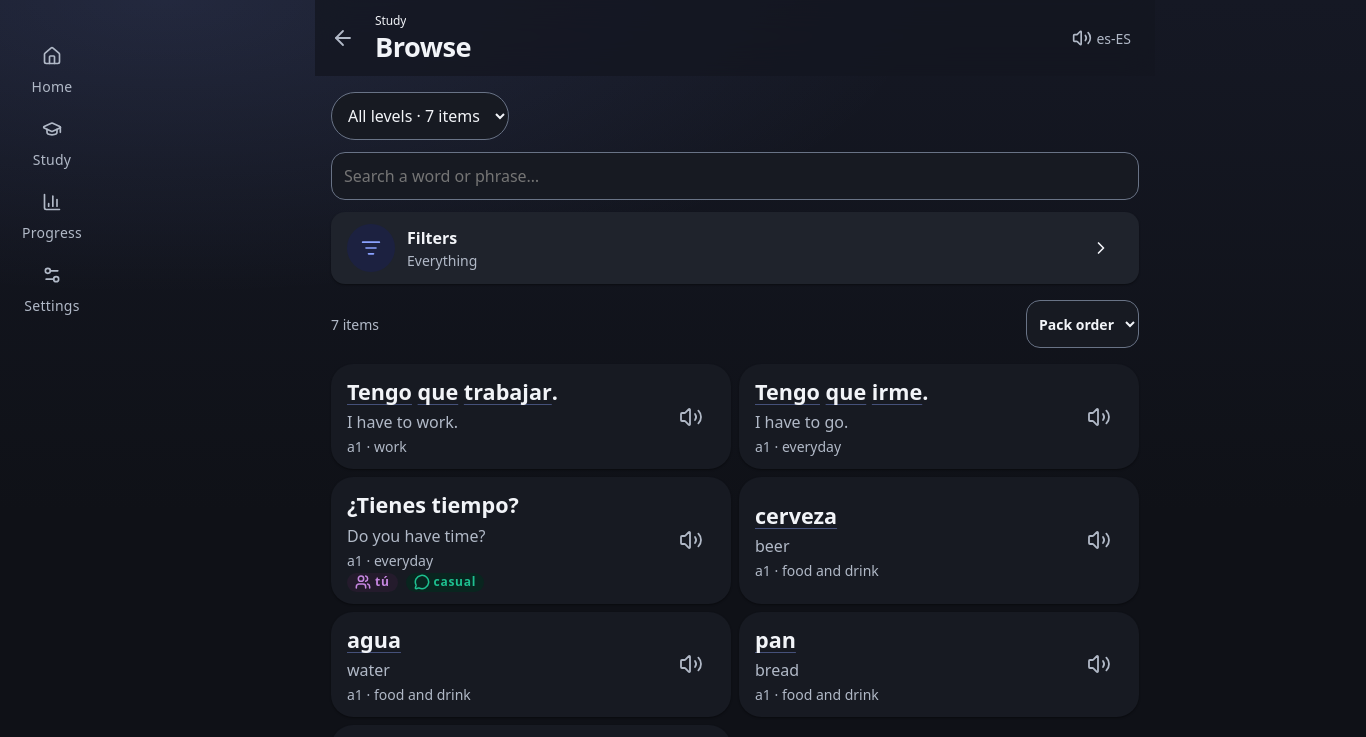
Test: the letter index › offers the letters the course has content under, and no others
The width and height of the screenshot is (1366, 737).
Expected: the search field is shown, left=331, top=152, right=1139, bottom=200
Click the button with aria-label "Filters:".
click(371, 248)  # box left=331, top=212, right=1139, bottom=284
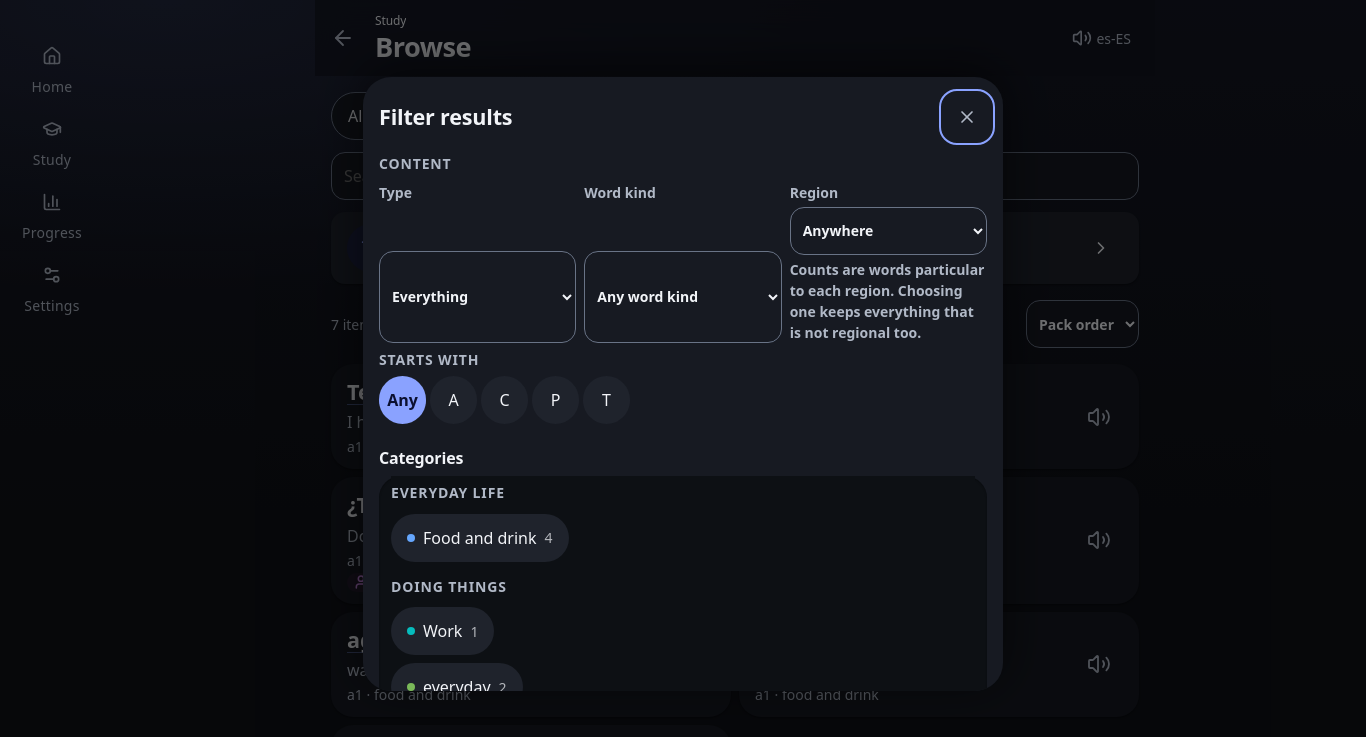
Expected: the buttons read "Any", "A", "C", "P", "T", in this order, left=379, top=376, right=426, bottom=424; left=430, top=376, right=477, bottom=424; left=481, top=376, right=528, bottom=424; left=532, top=376, right=579, bottom=424; left=583, top=376, right=630, bottom=424
